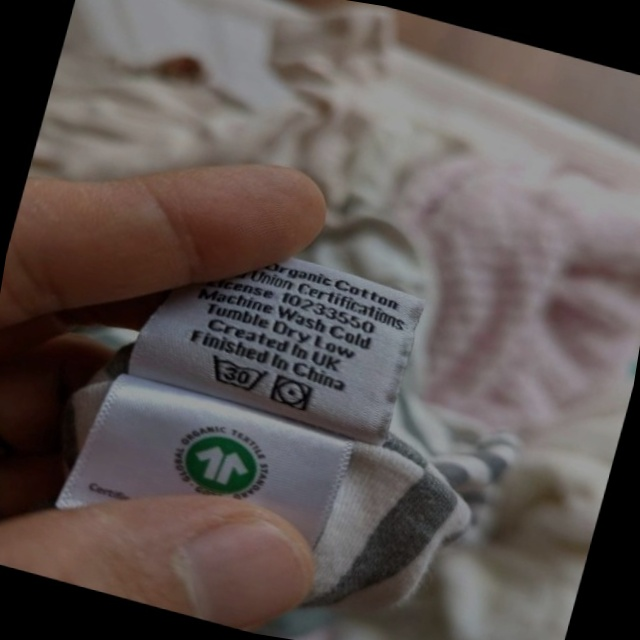30C: (199, 348, 273, 400)
tumble_dry_low: (265, 370, 318, 417)
